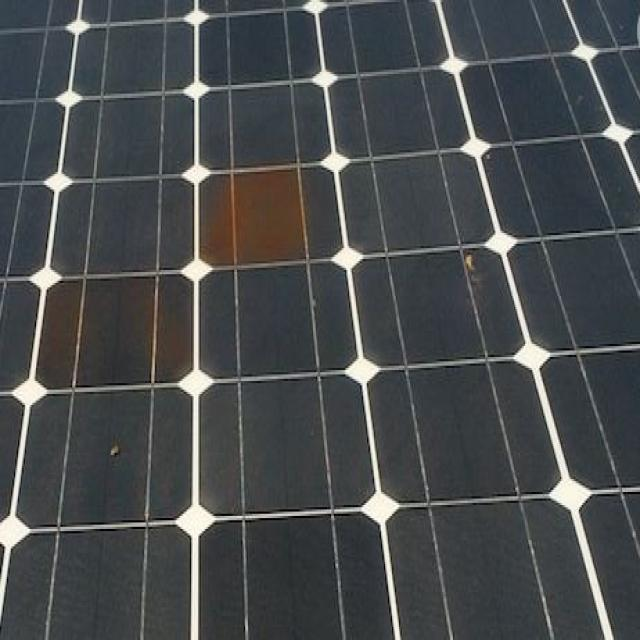Electrical-damage: (199, 156, 335, 275), (127, 253, 198, 395), (44, 255, 83, 412), (452, 236, 493, 334)
